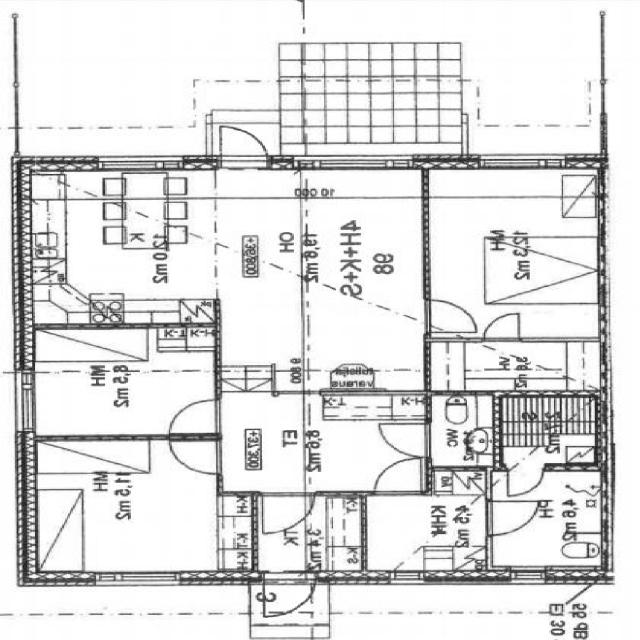door: (264, 570, 317, 623), (264, 491, 316, 533), (221, 122, 268, 168), (487, 501, 541, 536), (374, 458, 422, 496), (378, 424, 432, 457), (170, 400, 223, 433), (170, 442, 223, 474), (426, 300, 478, 332), (484, 312, 520, 342), (508, 466, 543, 496)
